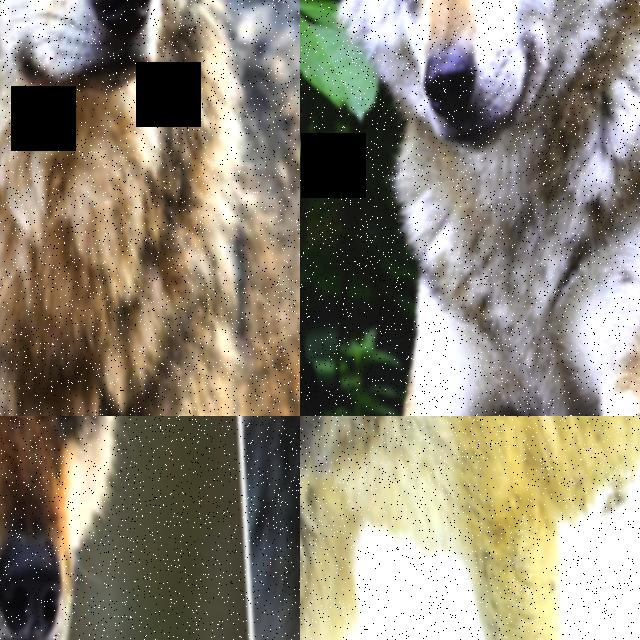wolf: (300, 0, 640, 416), (0, 0, 300, 416), (300, 416, 640, 640), (0, 416, 192, 640), (229, 416, 300, 640)
